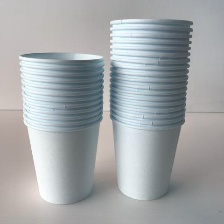paper_cup: (102, 12, 196, 204), (15, 47, 107, 207)
